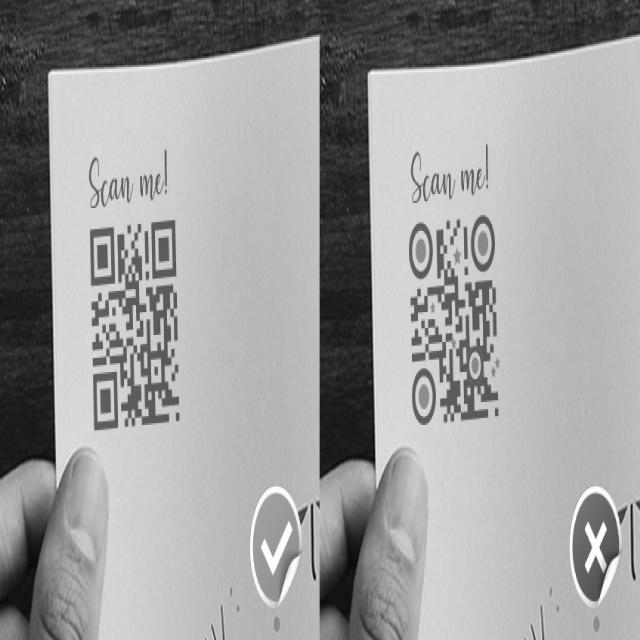QR-codes: (90, 216, 182, 432), (409, 216, 503, 426)
